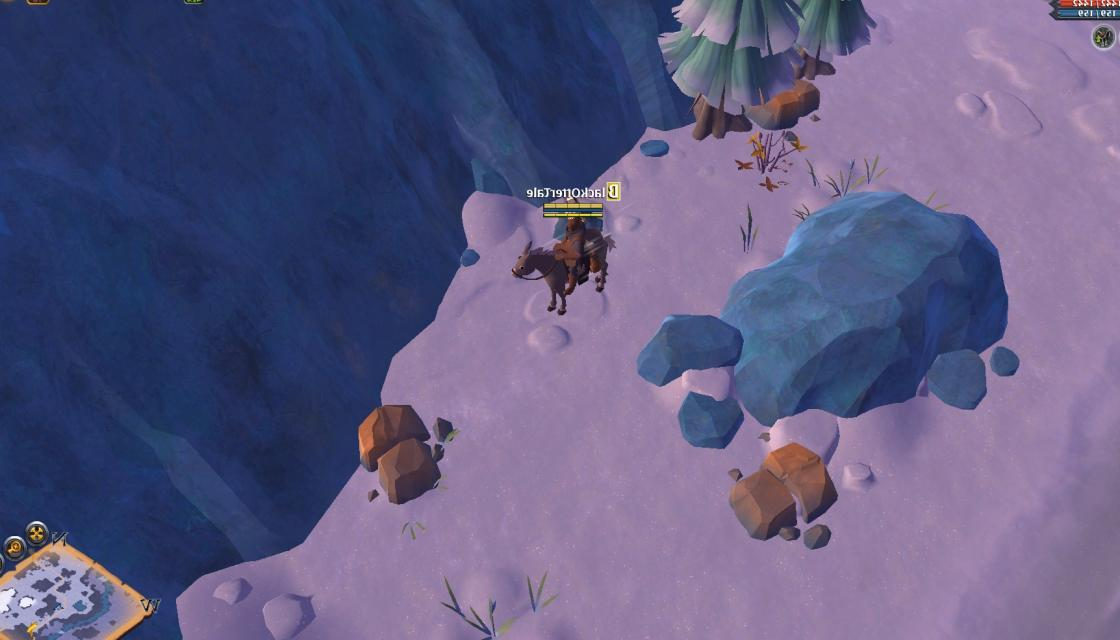limestone: (730, 442, 848, 554), (358, 398, 452, 502), (746, 72, 824, 130)
